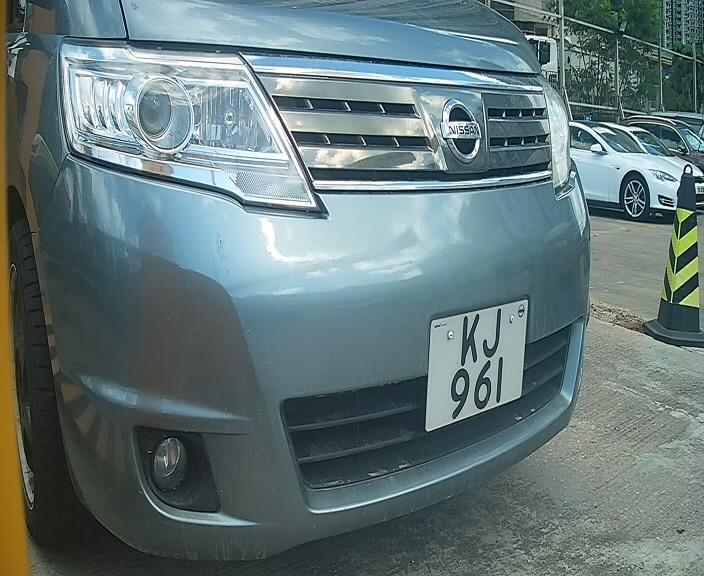License Plate: (419, 291, 532, 435)
